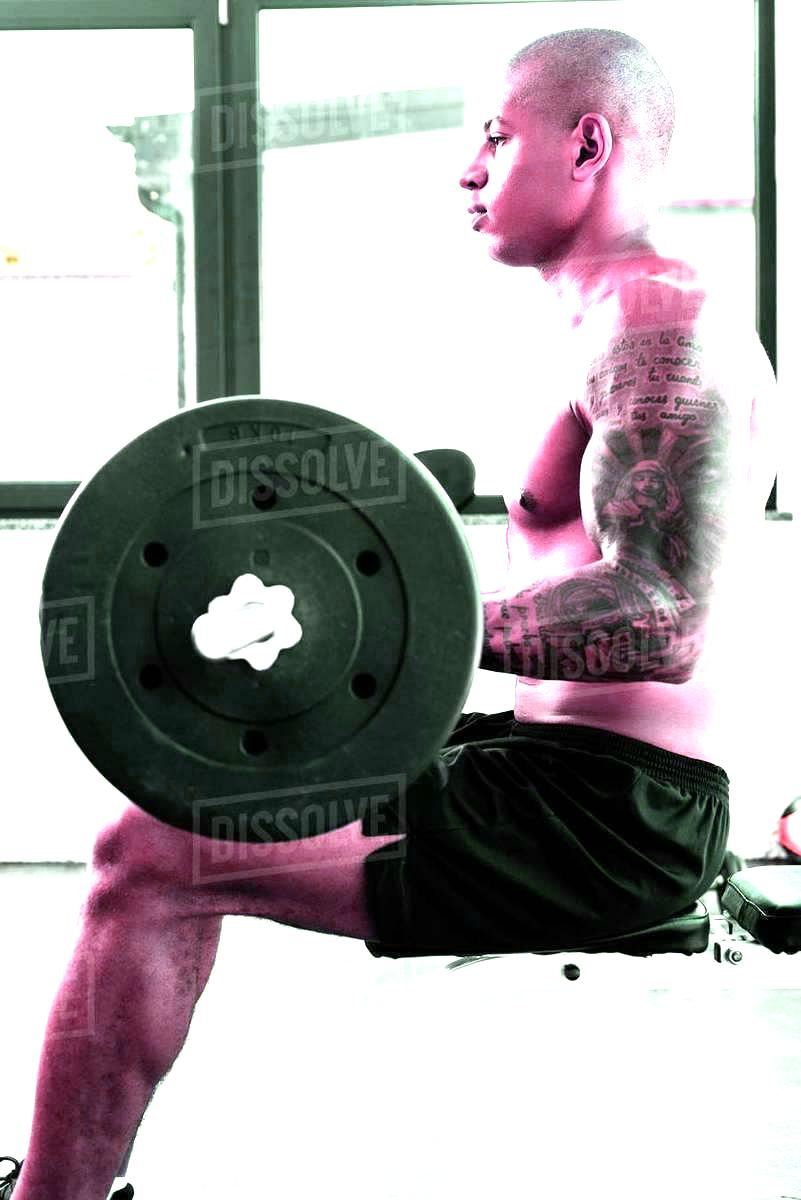Barbell: (189, 600, 248, 664)
